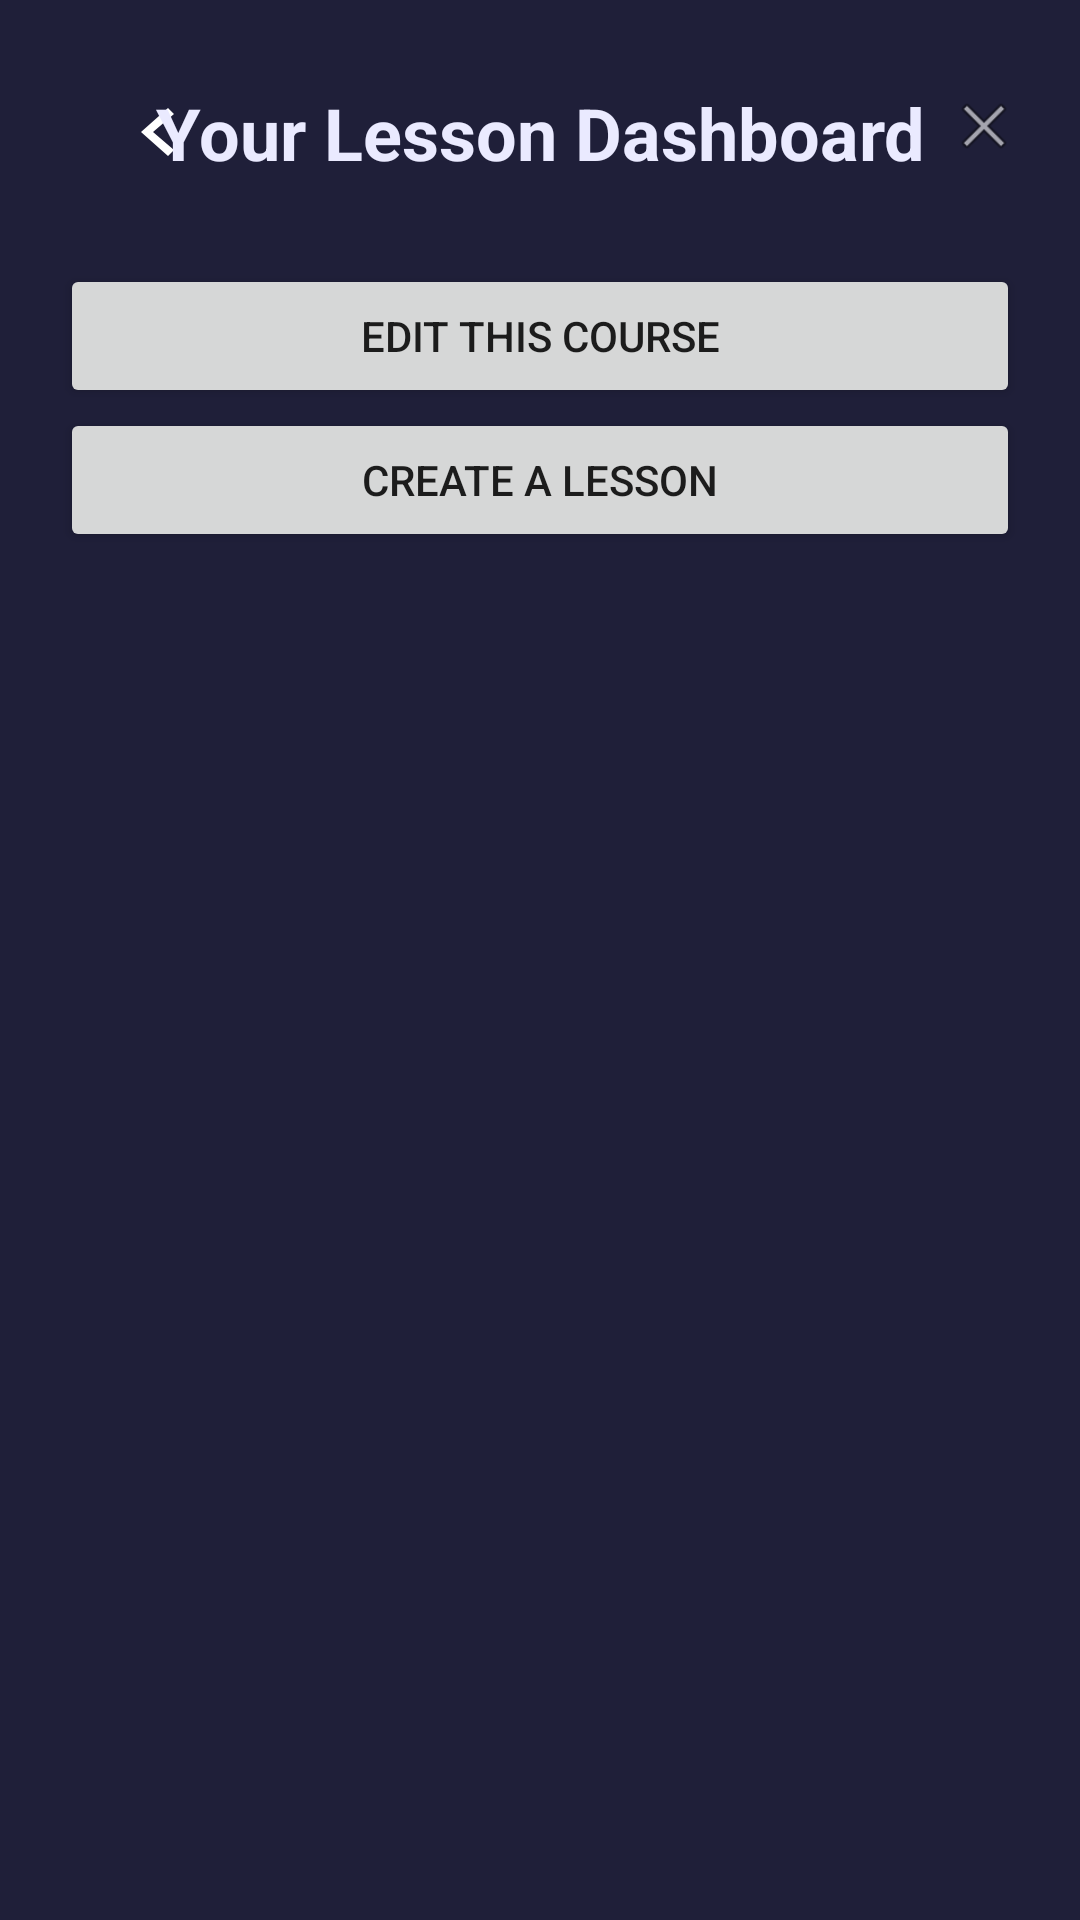

Where to tap for icons on this 1080×1920 app screen, as (x,y):
close clear cancel: (984,126)
